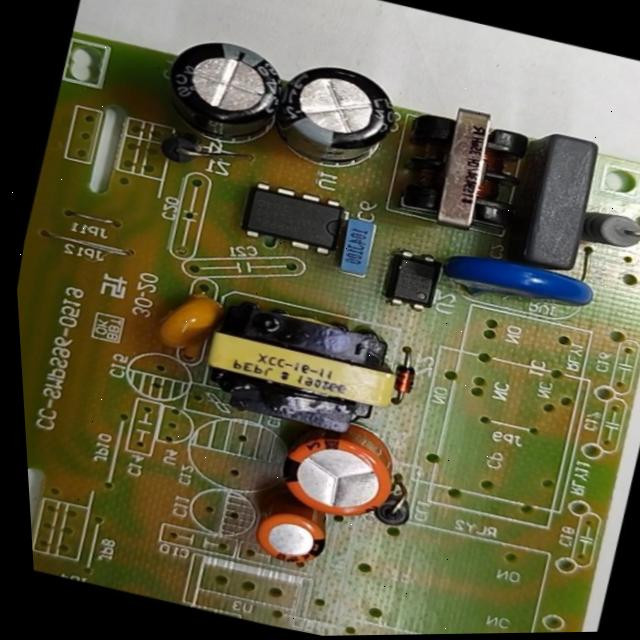Cap1: (254, 405, 436, 547)
Cap2: (232, 495, 341, 584)
Cap3: (263, 42, 419, 175)
Cap4: (129, 9, 300, 170)
MOSFET: (222, 166, 369, 272)
Mov: (420, 232, 604, 328)
Resistor: (572, 185, 640, 276)
Transformer: (164, 268, 433, 465), (345, 70, 561, 266)
